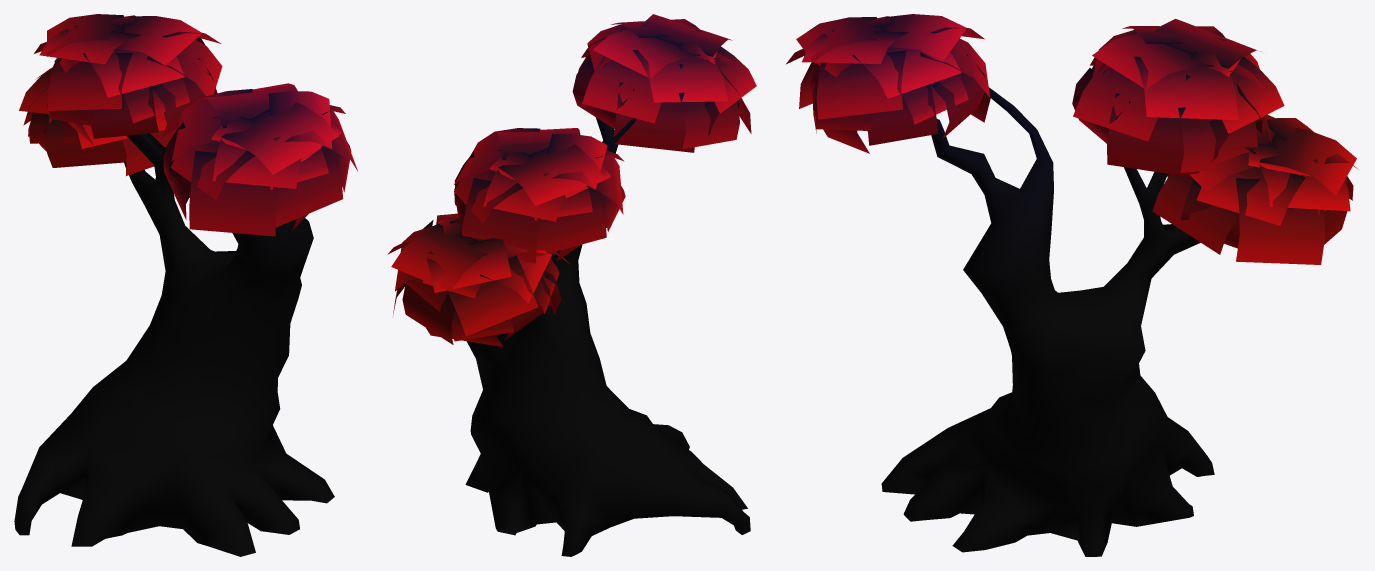
Rendered from tree_01.fbx.
The picture shows the model from 3 angles, left to right: view 1: azimuth 30°, elevation 25°; view 2: azimuth 150°, elevation 25°; view 3: azimuth 270°, elevation 25°; orthographic projection. The views are drawn at different scales.
Parts seen in each view (by area): view 1: tree_01; view 2: tree_01; view 3: tree_01.
Boxes of the visible parts, <box> form: tree_01: <box>14,14,357,556</box>; tree_01: <box>387,14,756,556</box>; tree_01: <box>786,14,1358,556</box>.
Bounding box in the file's own units: 1092 × 1608 × 1763.
